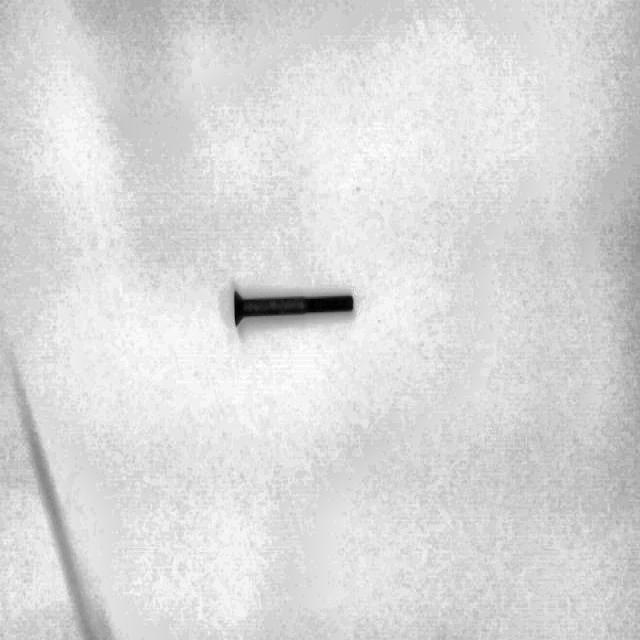Flat head socket screw: (230, 285, 356, 328)
